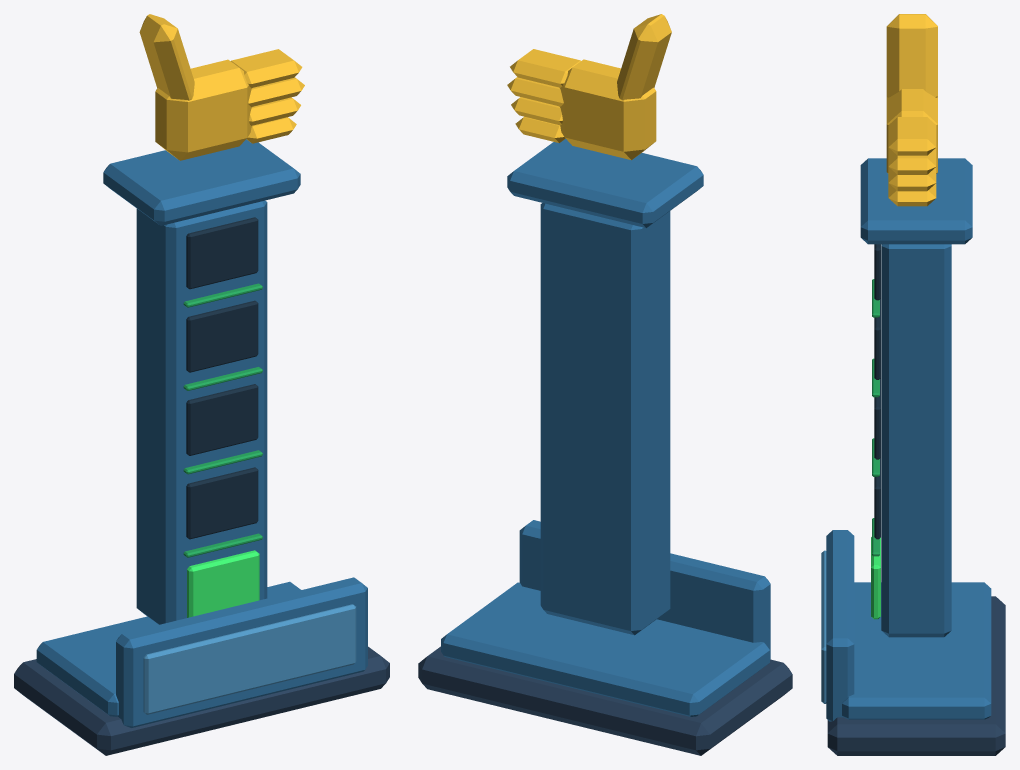
Rendered from PF_LikePillar.fbx.
The picture shows the model from 3 angles, left to right: view 1: azimuth 30°, elevation 25°; view 2: azimuth 150°, elevation 25°; view 3: azimuth 270°, elevation 25°; orthographic projection. The views are drawn at different scales.
Parts seen in each view (by area): view 1: PillarRoot, PillarSegments, LikeHand, TextPanelSurface, TextPanelFrame, BasePlatform, TopCap, BaseUpper.004, GlowingBlockPlaceholder, PillarDividers; view 2: PillarRoot, BaseUpper.004, LikeHand, BasePlatform, TopCap, TextPanelFrame; view 3: PillarRoot, BaseUpper.004, LikeHand, BasePlatform, TopCap, TextPanelFrame, PillarSegments, TextPanelSurface, PillarDividers, GlowingBlockPlaceholder.
Boxes of the visible parts, x1,y1,x2,y2 form: PillarRoot: (136,200,267,624); PillarSegments: (186,217,258,539); LikeHand: (139,14,304,160); TextPanelSurface: (143,604,356,714); TextPanelFrame: (116,577,367,727); BasePlatform: (14,646,389,755); TopCap: (103,139,300,225); BaseUpper.004: (36,581,300,716); GlowingBlockPlaceholder: (187,550,259,617); PillarDividers: (183,283,262,557); PillarRoot: (540,203,670,635); BaseUpper.004: (441,582,769,716); LikeHand: (507,14,671,160); BasePlatform: (418,646,792,755); TopCap: (507,138,703,228); TextPanelFrame: (519,520,770,659); PillarRoot: (881,244,951,637); BaseUpper.004: (842,582,991,719); LikeHand: (886,14,937,206); BasePlatform: (827,596,1005,755); TopCap: (860,158,972,244); TextPanelFrame: (826,530,854,721); PillarSegments: (874,244,880,539); TextPanelSurface: (821,550,826,703); PillarDividers: (872,279,879,556); GlowingBlockPlaceholder: (871,537,880,619).
Size of the model in its own units: 3.9 by 8.73 by 2.23.
